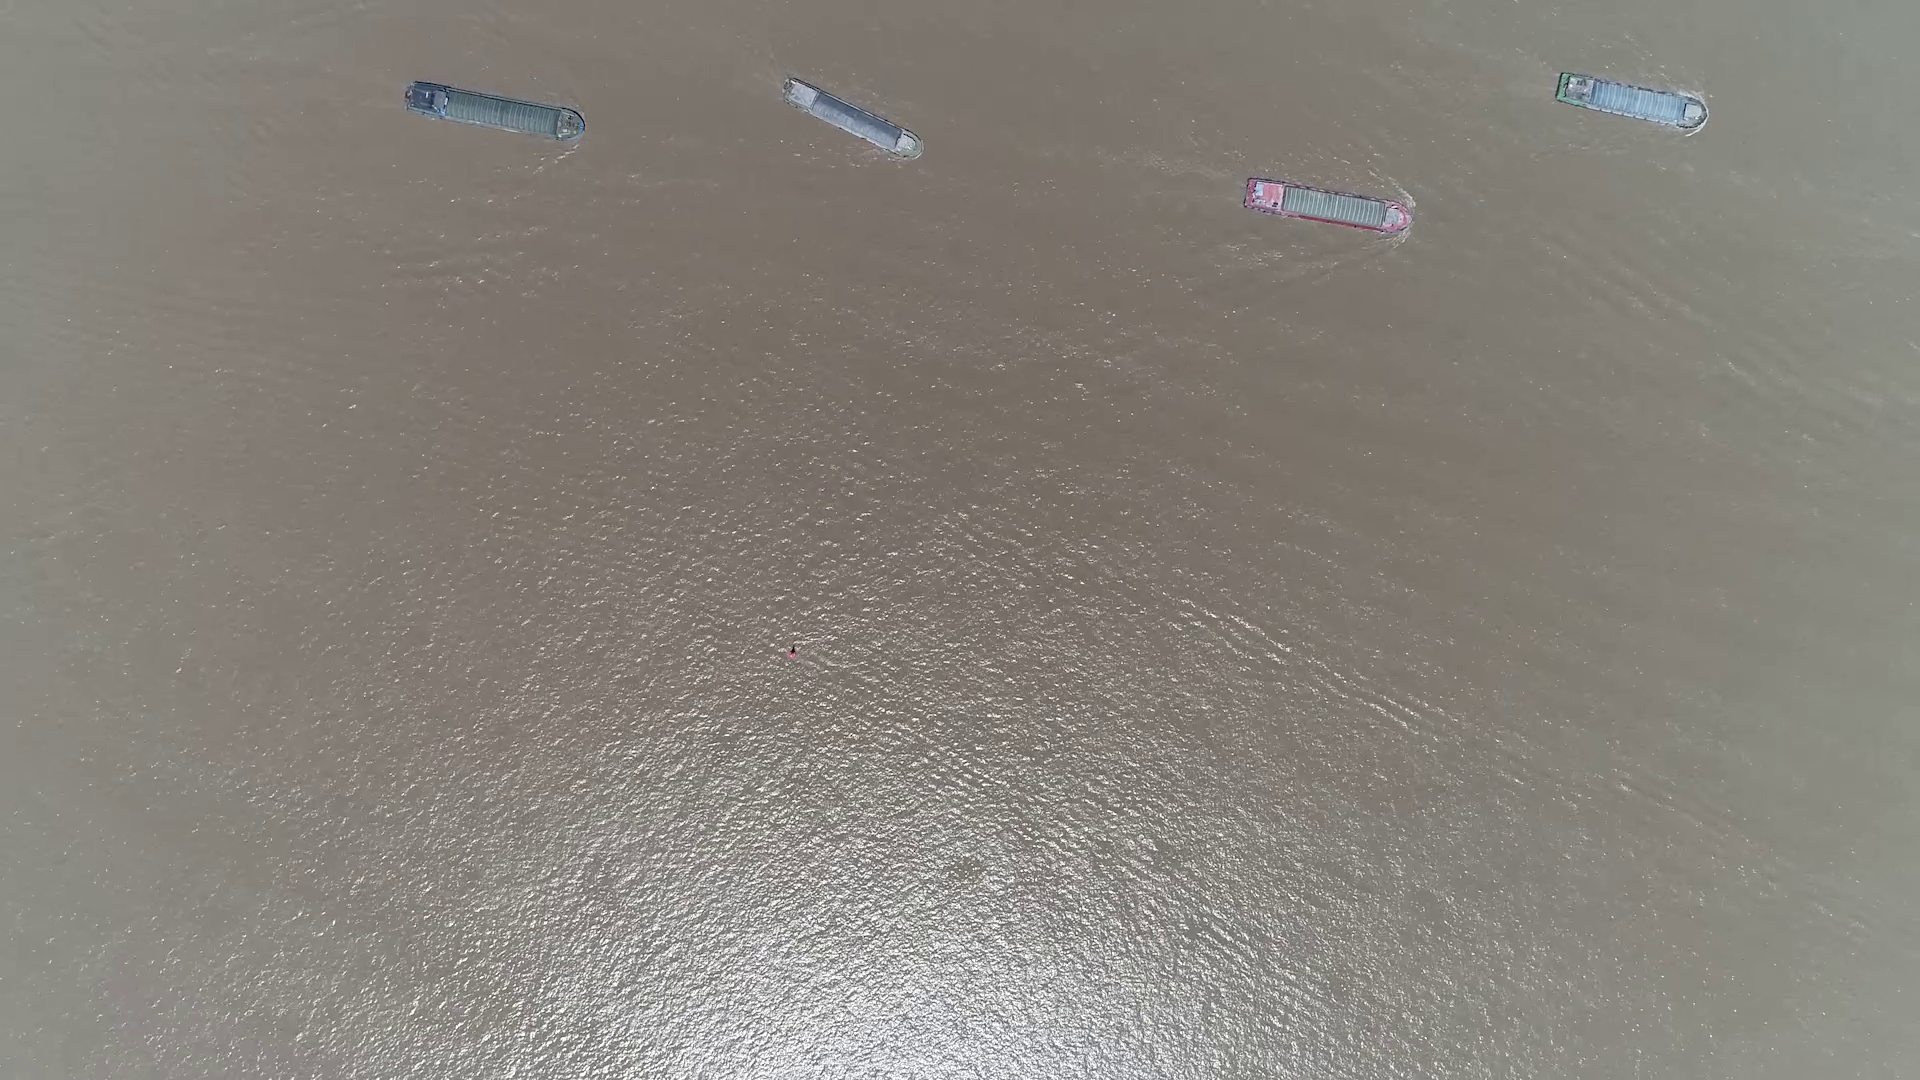ship: (404, 82, 587, 144), (781, 79, 920, 158), (1241, 177, 1414, 236), (1557, 74, 1704, 128)
